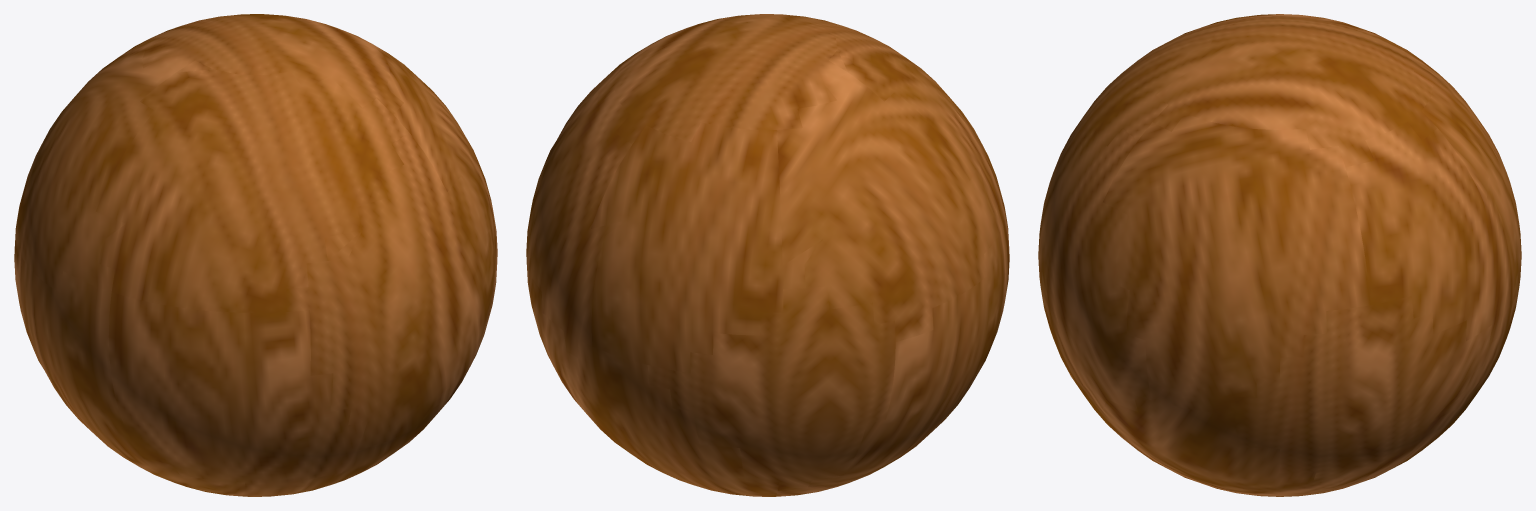
The picture shows the model from 3 angles, left to right: view 1: azimuth 30°, elevation 25°; view 2: azimuth 150°, elevation 25°; view 3: azimuth 270°, elevation 25°; orthographic projection.
Parts seen in each view (by area): view 1: Sphere; view 2: Sphere; view 3: Sphere.
Part boxes in pixels (x1,y1,x2,y2): Sphere: (14,14,497,496); Sphere: (526,14,1009,496); Sphere: (1038,14,1521,496).
Size of the model in its own units: 0.2045 by 0.2045 by 0.2045.
Materials: 1 (1 with a texture image).
